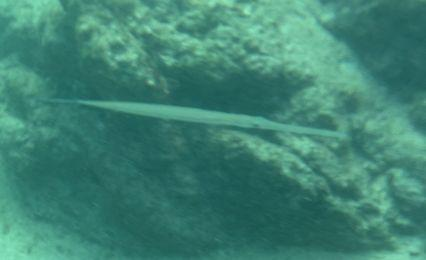Fistularia commersonii: (45, 68, 353, 154)
